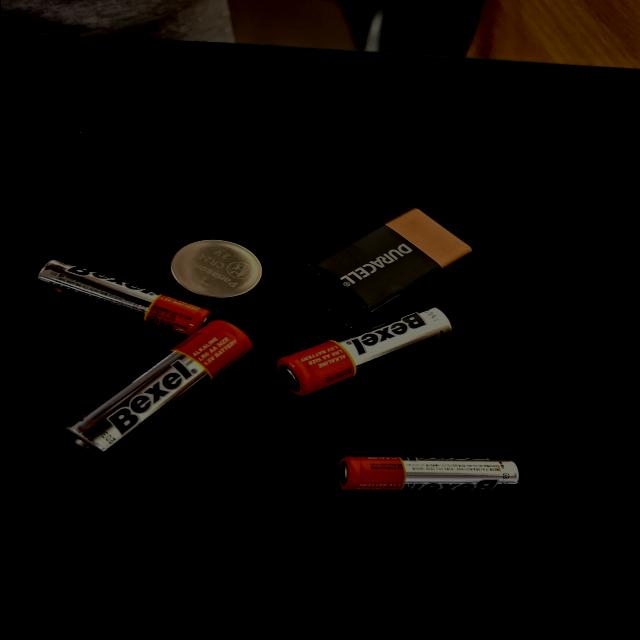9V: (202, 222, 362, 352)
AA: (28, 48, 214, 188), (112, 208, 230, 338)
AAA: (194, 27, 294, 156), (0, 253, 31, 388)
COIN: (234, 127, 322, 195)
